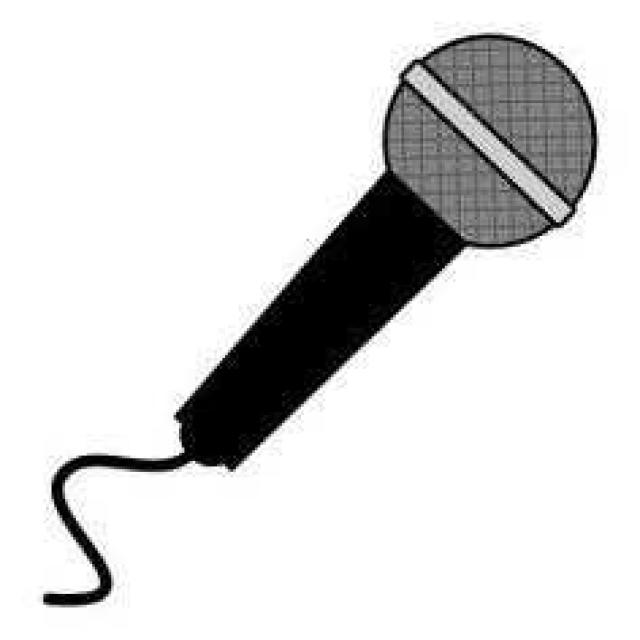microphone: (174, 30, 596, 471)
